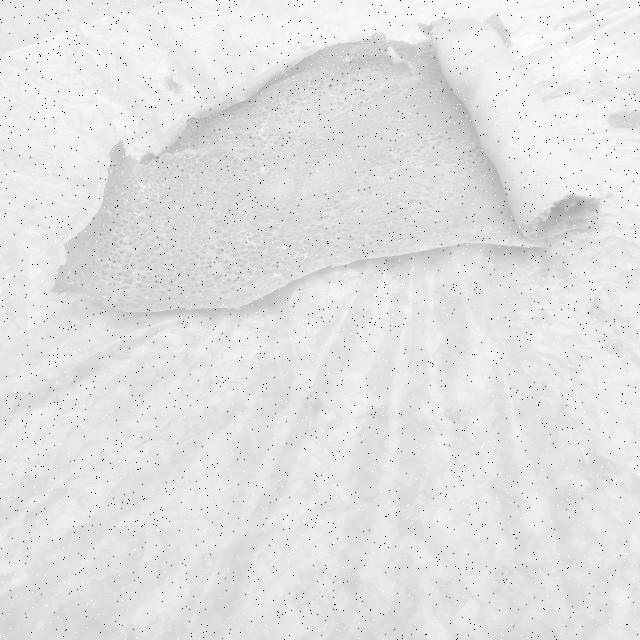injera_mold: (238, 228, 260, 255), (134, 181, 160, 200), (110, 234, 133, 246), (235, 144, 252, 158), (415, 56, 432, 68), (115, 216, 135, 226), (408, 158, 426, 169), (257, 122, 271, 136), (519, 173, 534, 186), (164, 204, 181, 215), (387, 149, 403, 160), (257, 164, 271, 176), (111, 250, 129, 259), (292, 252, 308, 262), (186, 172, 200, 182), (387, 167, 401, 175), (272, 270, 282, 280), (343, 54, 354, 63), (287, 161, 298, 169), (288, 140, 298, 148), (120, 183, 128, 190)
